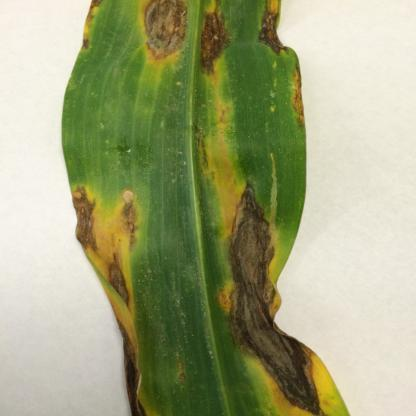corn leaf blight: (54, 1, 361, 416)
